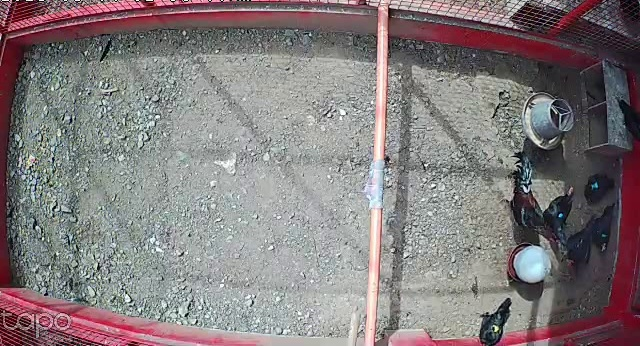Chicken: (559, 213, 598, 270), (542, 183, 576, 248), (477, 295, 517, 346), (613, 96, 640, 154), (593, 199, 620, 256), (585, 171, 616, 203)
Rooster: (496, 149, 550, 233)
Saddle_Color_Blue: (558, 213, 562, 216)
Saddle_Color_Yellow: (491, 325, 500, 333)
